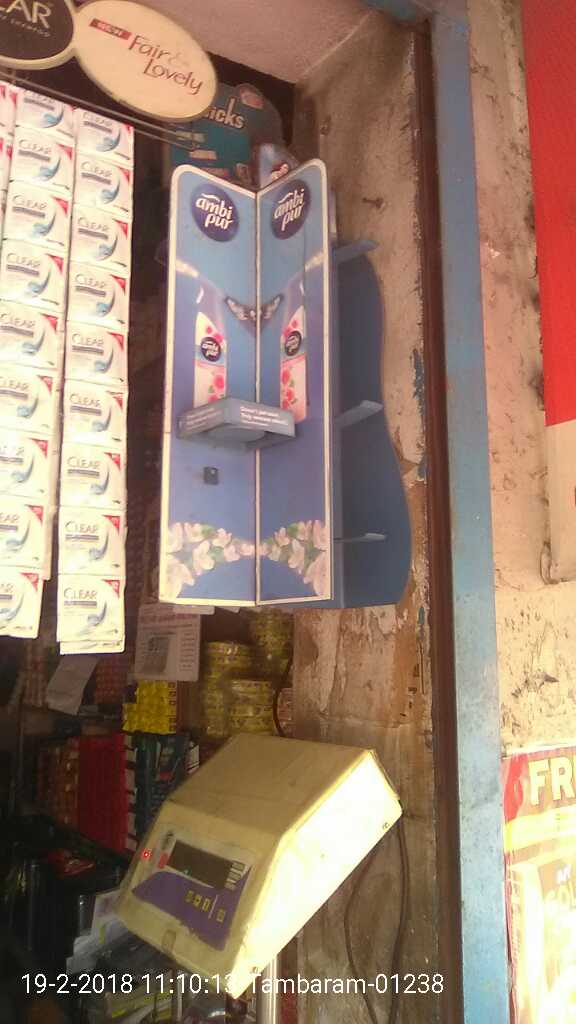reject: (248, 507, 318, 596)
